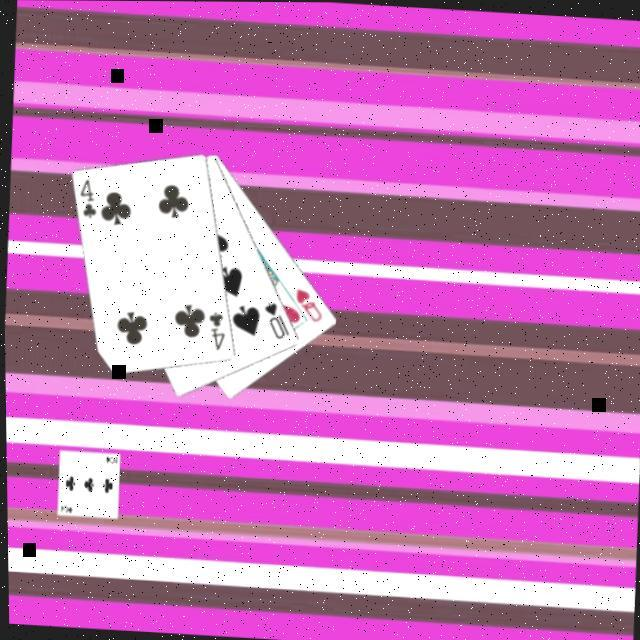10S: (256, 299, 291, 343)
4C: (73, 177, 100, 223), (201, 310, 227, 355)
QH: (288, 286, 323, 326)
